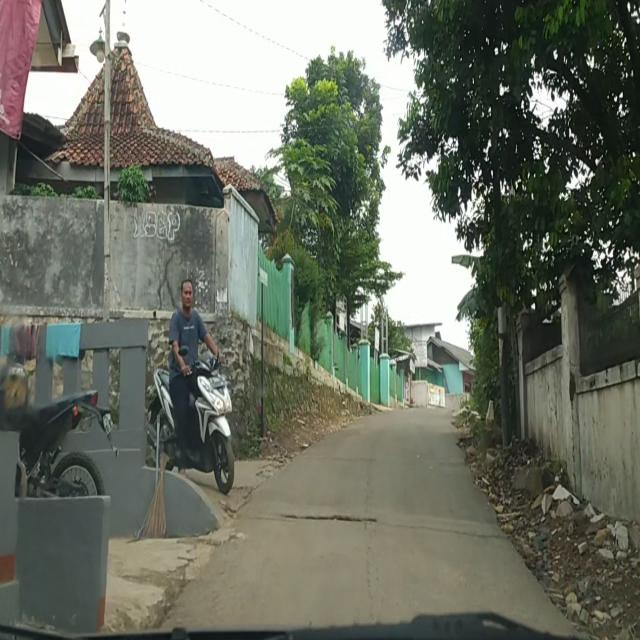Sewer Cover: (274, 514, 382, 527)
